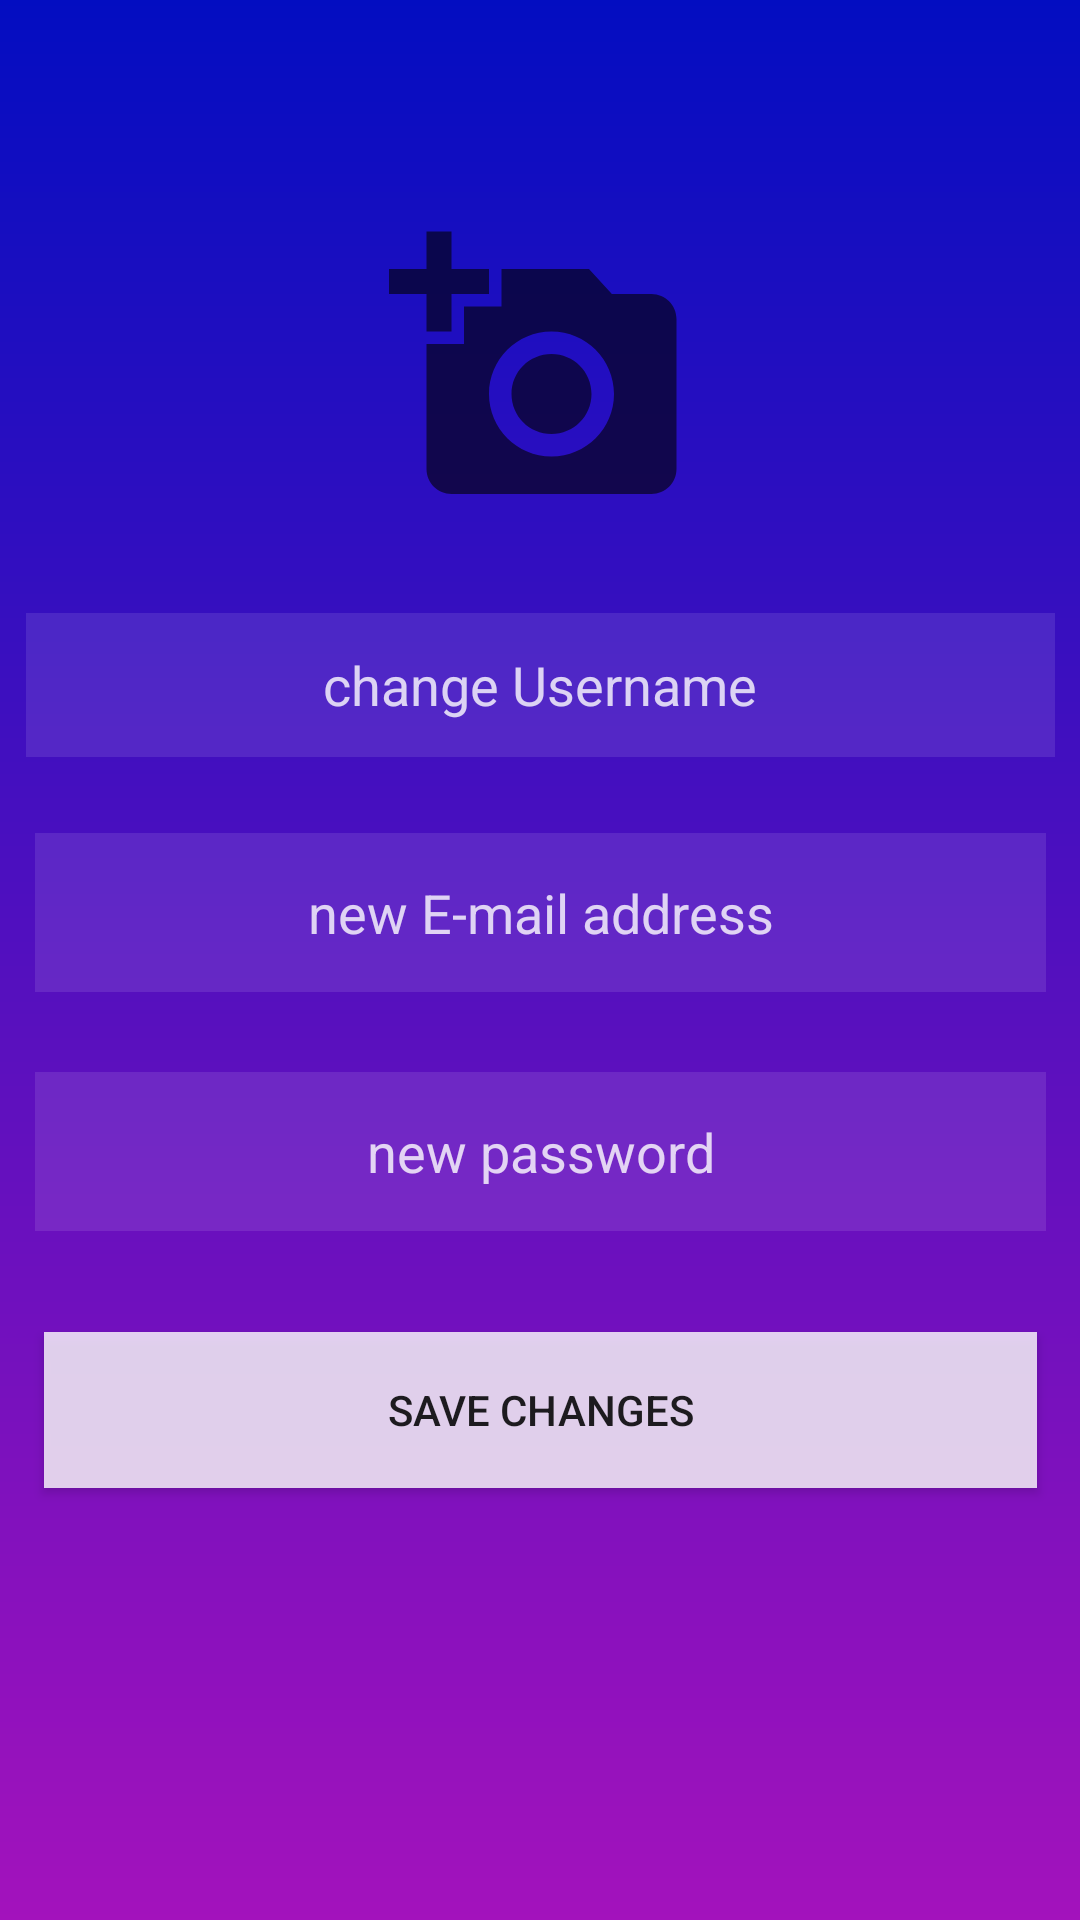

Screen size 1080 × 1920. Icon name, then its center in pixels as (x,y):
add photo: (533,362)
